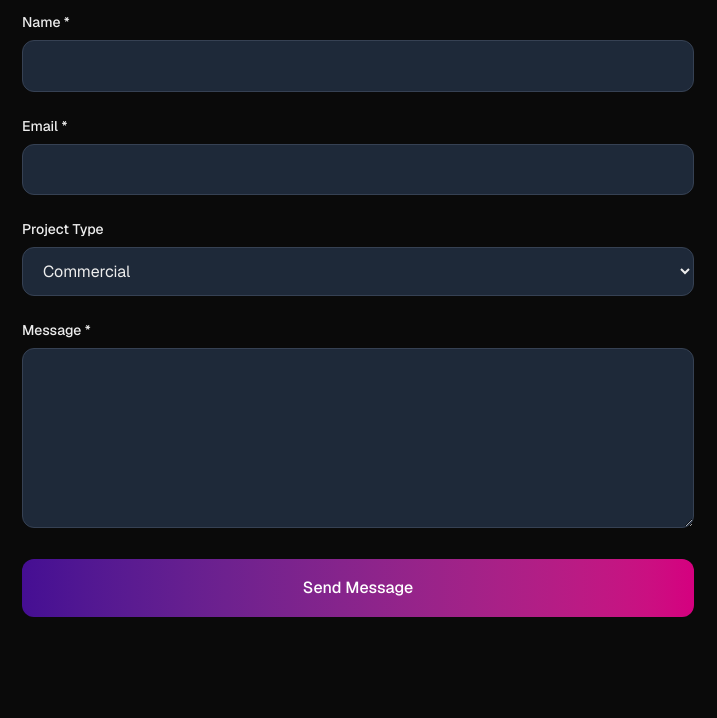
Test: ContactForm › shows error message on failed submission
In the field labelled "Name *": (358, 66) x1=22 y1=40 x2=694 y2=92, type "John Doe"
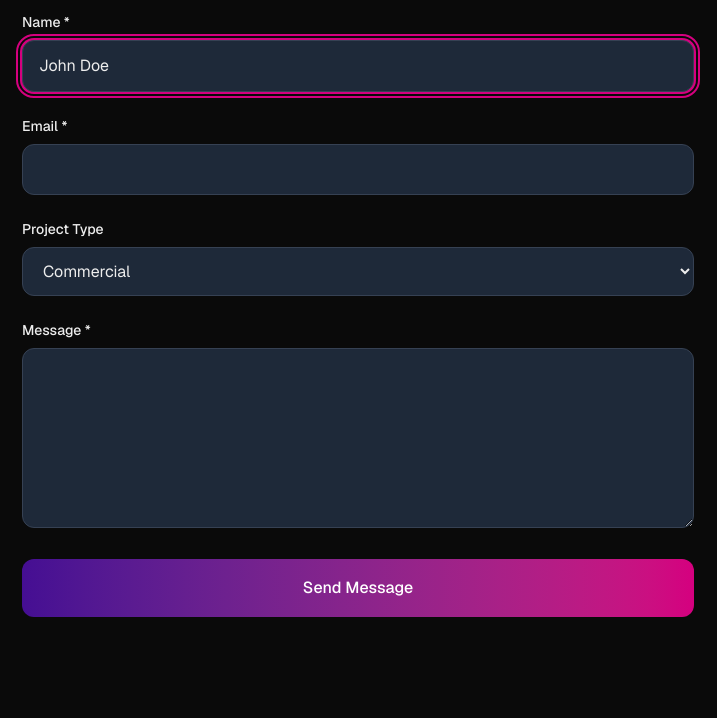
In the field labelled "Email *": (358, 169) x1=22 y1=144 x2=694 y2=195, type "john@example.com"
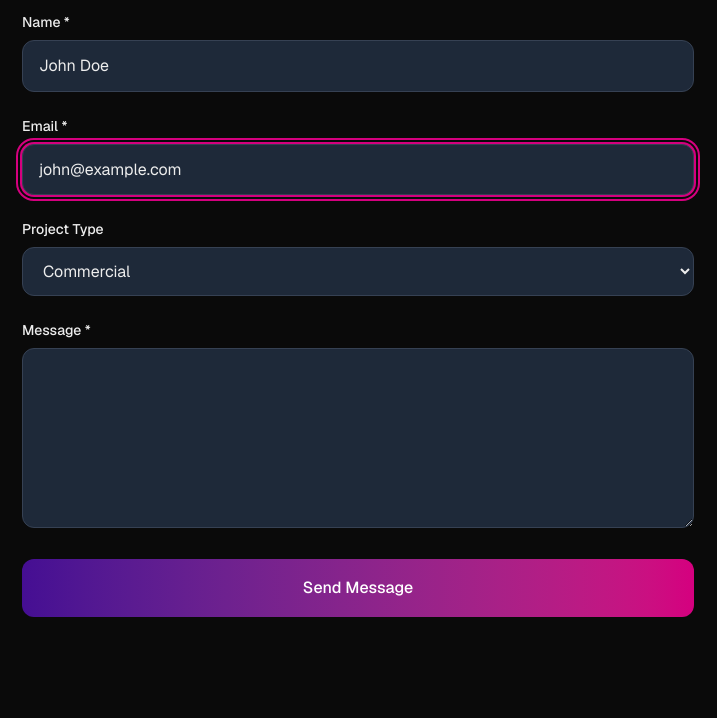
In the text box labelled "Message *": (358, 438) x1=22 y1=348 x2=694 y2=528, type "This is a test message"
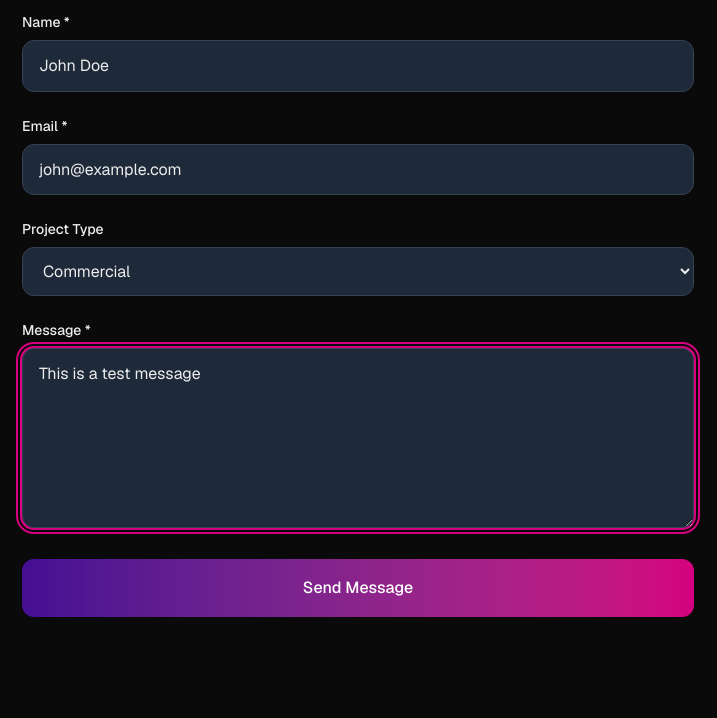
Click the button "Send Message": (358, 588) x1=22 y1=559 x2=694 y2=617
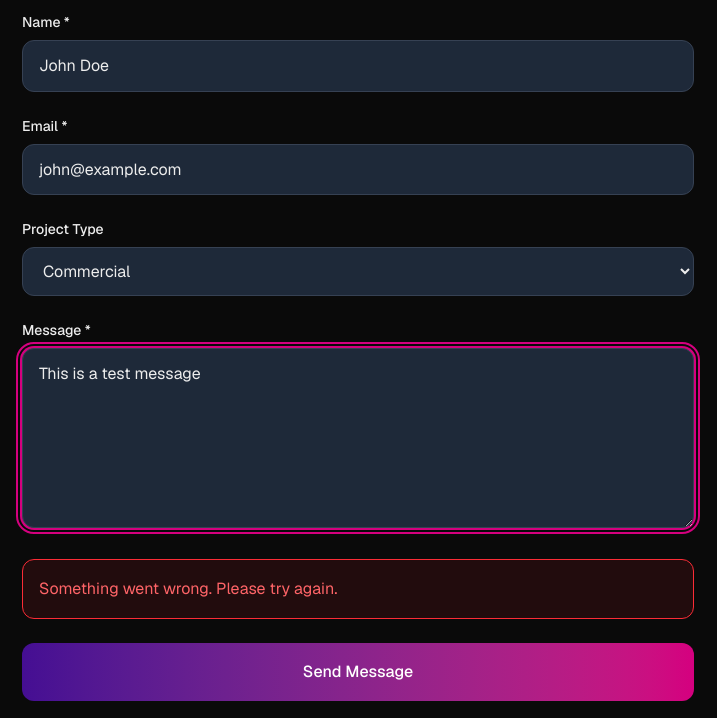
Expected: the text "Something went wrong. Please try again." is shown, x1=22 y1=559 x2=694 y2=619
